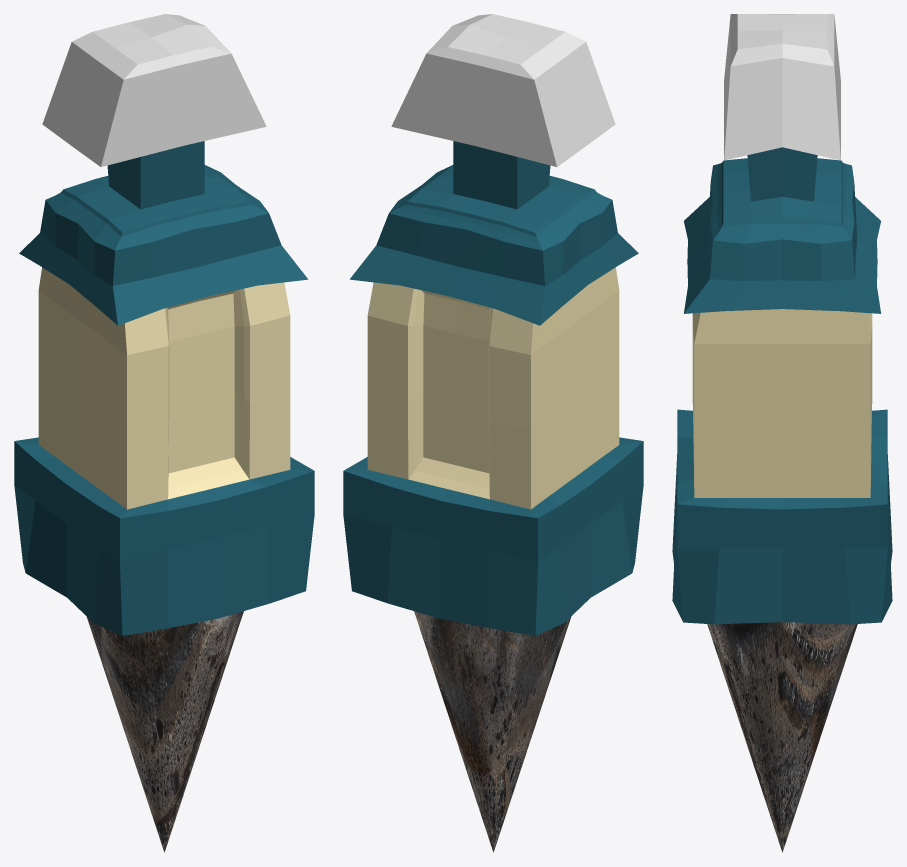
Rendered from gunDrop.fbx.
3 renders of one model, left to right at view 1: azimuth 30°, elevation 25°; view 2: azimuth 150°, elevation 25°; view 3: azimuth 270°, elevation 25°, orthographic.
Visible parts, largest first — view 1: Cube, Cone; view 2: Cube, Cone; view 3: Cube, Cone.
Part boxes in pixels (x1=…): Cube: x1=14, y1=14, x2=314, y2=635; Cone: x1=87, y1=611, x2=243, y2=852; Cube: x1=343, y1=14, x2=643, y2=635; Cone: x1=414, y1=611, x2=570, y2=852; Cube: x1=672, y1=14, x2=892, y2=624; Cone: x1=707, y1=622, x2=857, y2=852.
Bounding box in the file's own units: 64.66 × 243 × 58.95.
Materials: 4 (1 with a texture image).
